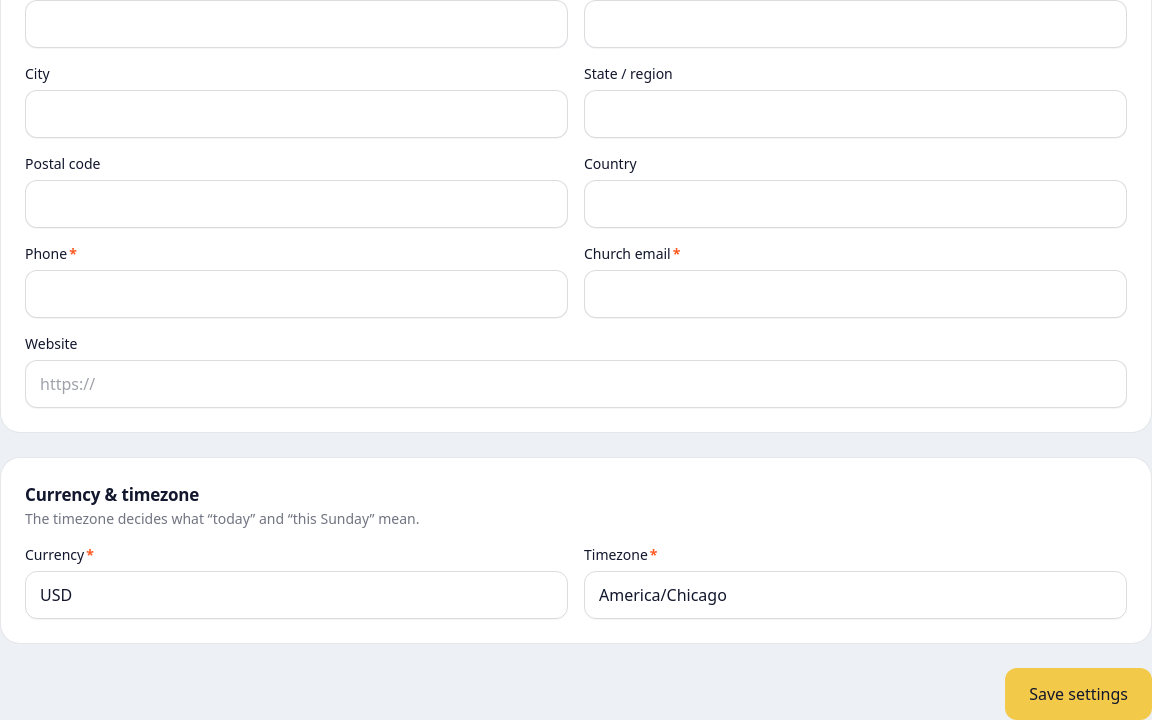
Test: Step 1 form › blocks saving with missing required fields (step cannot become complete)
(page scrolled)
What coordinates should you click on to do the following:
click the button "Save settings"
I would click on:
 (1079, 694)
Its box is left=1005, top=668, right=1151, bottom=719.
(page scrolled)
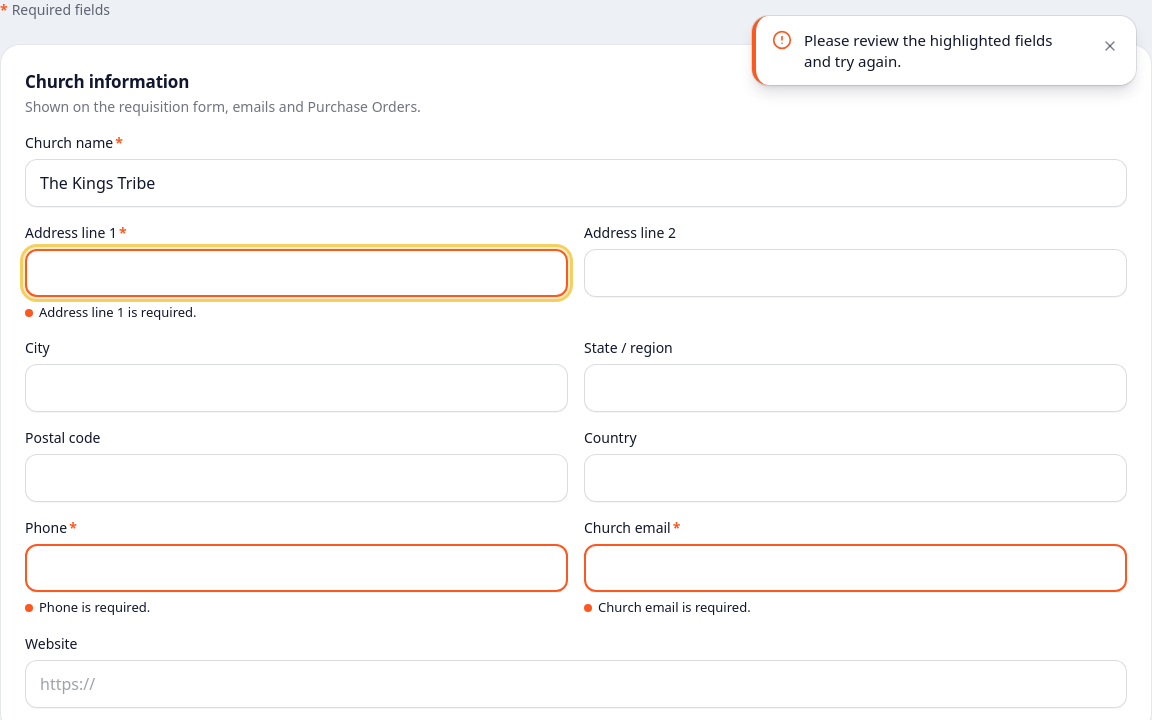
expect the text "Address line 1 is required." is shown: met, box left=25, top=302, right=197, bottom=320
expect the text "Phone is required." is shown: met, box left=25, top=598, right=150, bottom=616
